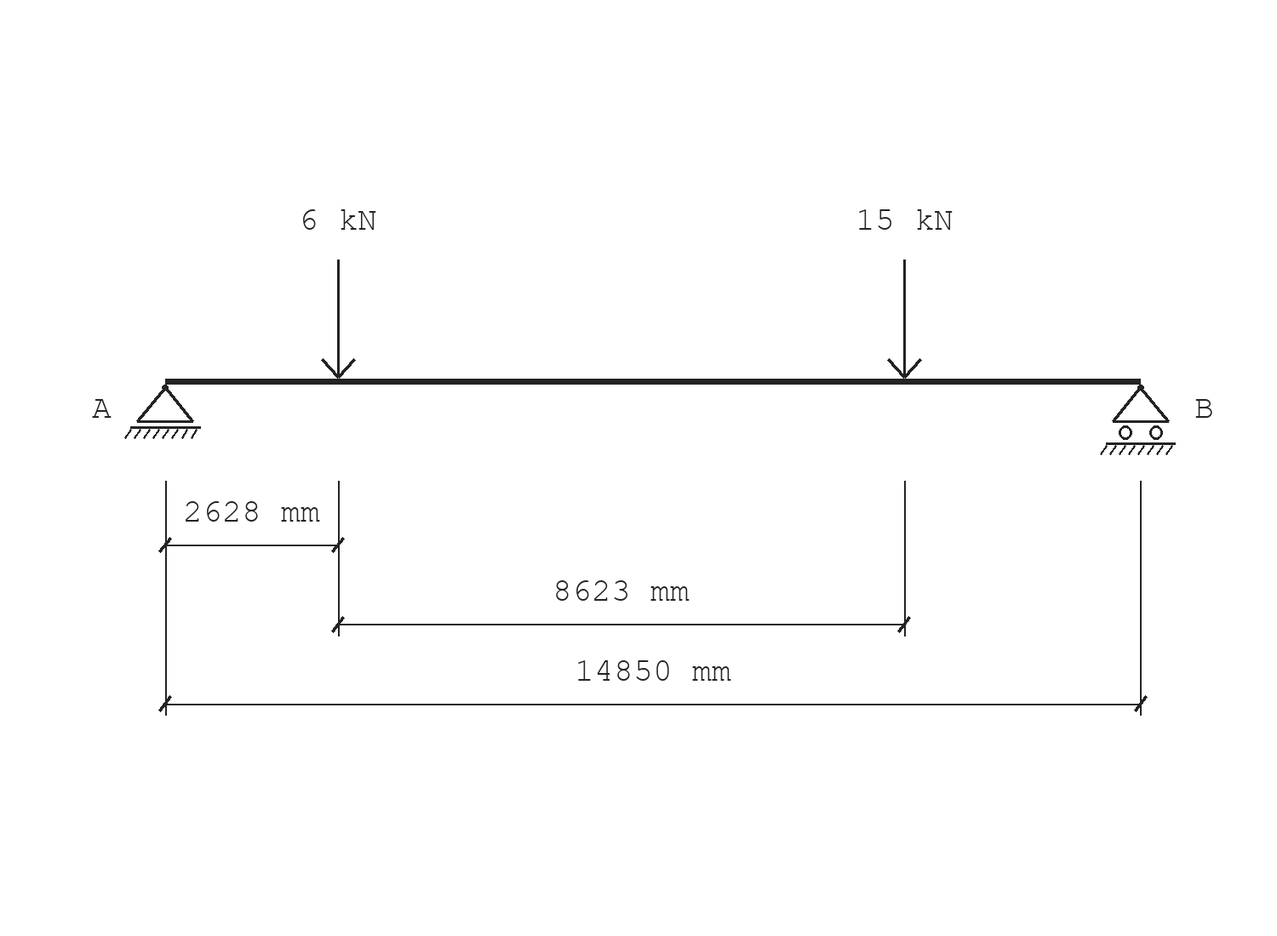pin_support: (124, 385, 201, 439)
point_load: (321, 260, 356, 379), (887, 260, 922, 379)
roller_support: (1100, 385, 1176, 455)
